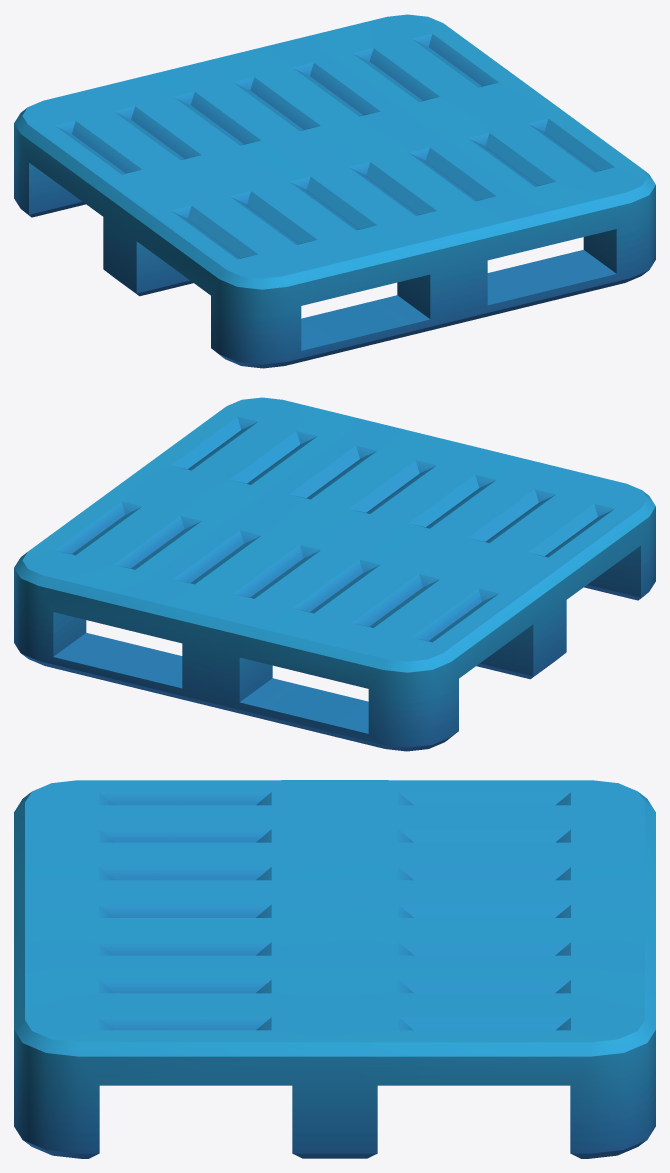
Rendered from pallet_plastic_blue.glb.
3 views of the same model, one above another, from view 1: azimuth 30°, elevation 25°; view 2: azimuth 150°, elevation 25°; view 3: azimuth 270°, elevation 25° (orthographic). The views are drawn at different scales.
Parts seen in each view (by area): view 1: Pallet_Plastic_Blue; view 2: Pallet_Plastic_Blue; view 3: Pallet_Plastic_Blue.
Boxes of the visible parts, box(x1,y1,x2,y2) form: Pallet_Plastic_Blue: box(14, 14, 655, 368); Pallet_Plastic_Blue: box(14, 397, 655, 751); Pallet_Plastic_Blue: box(14, 780, 655, 1158).
Size of the model in its own units: 1.5 by 0.2999 by 1.5.
Materials: 1 (1 with a texture image).
